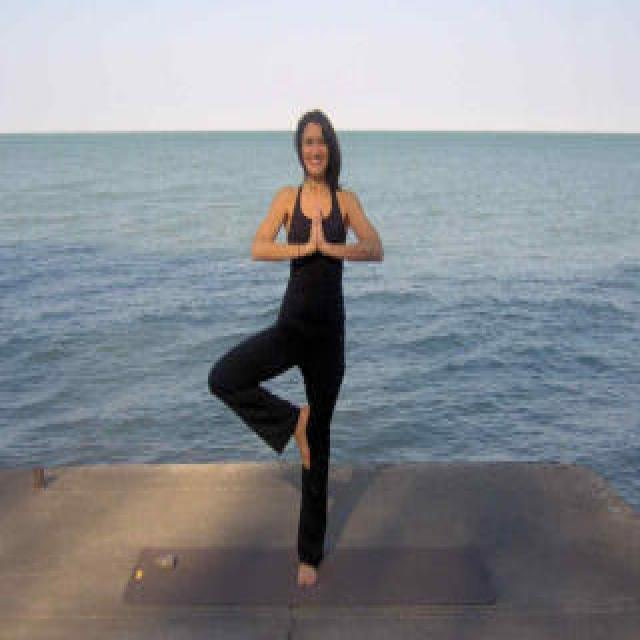yoga-pose tree: (210, 110, 387, 586)
